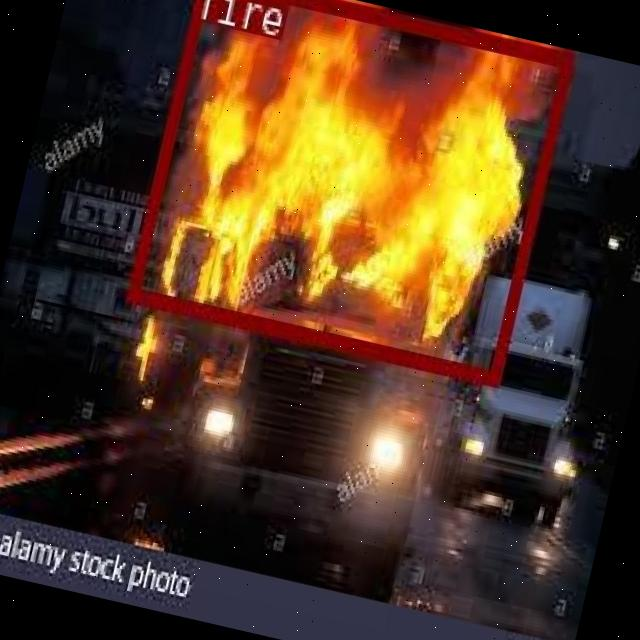fire: (123, 0, 571, 384)
